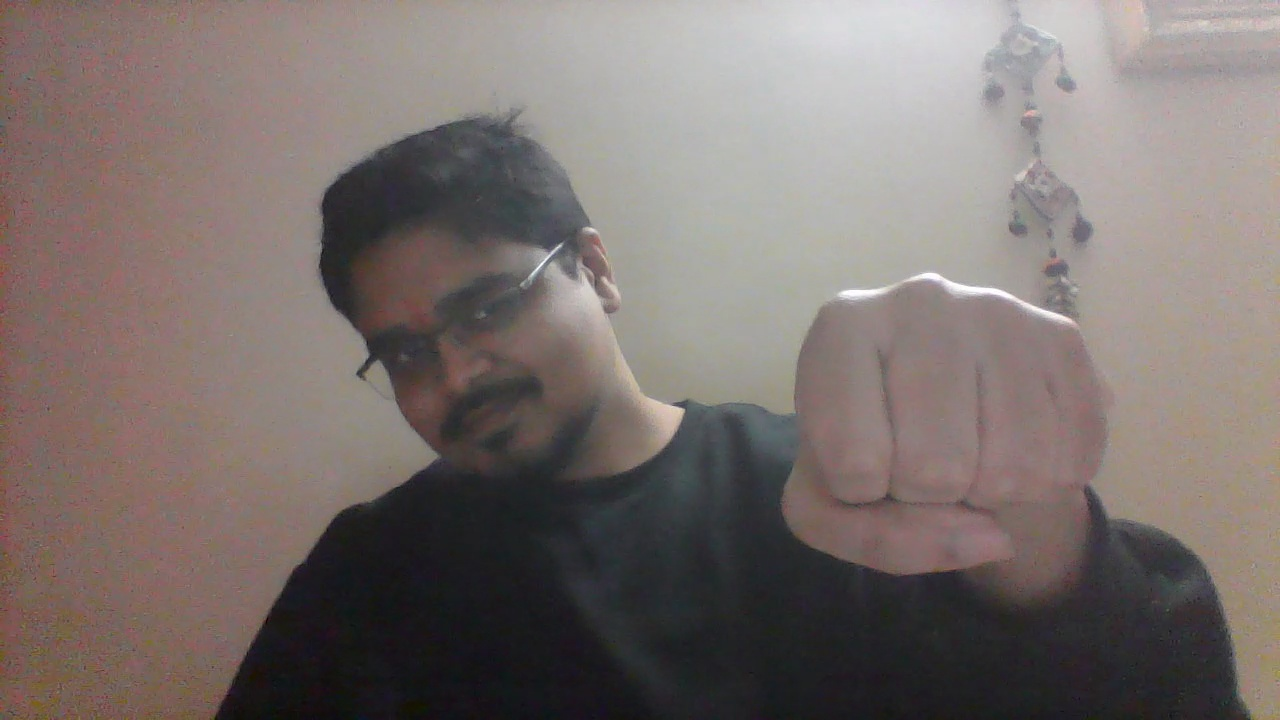Yes: (775, 266, 1120, 589)
